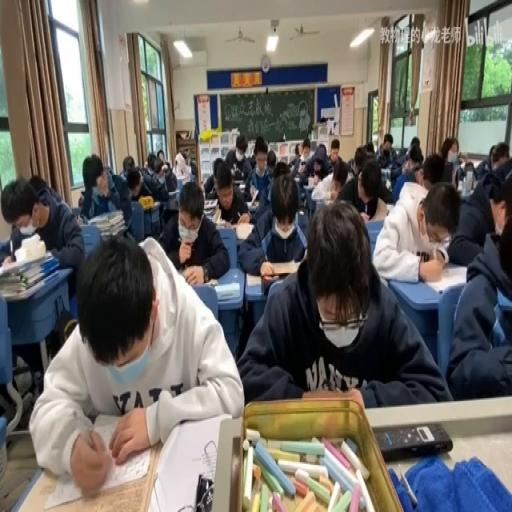calculator: (422, 262, 468, 293), (214, 282, 240, 300), (496, 284, 512, 310), (234, 222, 256, 240), (311, 194, 330, 208), (212, 205, 222, 222), (248, 185, 258, 202), (201, 277, 218, 286), (203, 199, 218, 209), (148, 199, 161, 209), (247, 199, 259, 209), (75, 213, 85, 225), (306, 176, 315, 188), (236, 180, 245, 190), (386, 205, 395, 215), (168, 189, 178, 196), (294, 176, 300, 181)
paper: (32, 230, 242, 490), (234, 198, 445, 408), (447, 184, 512, 401), (2, 174, 85, 292), (157, 179, 227, 283), (78, 152, 133, 238), (334, 156, 391, 220), (124, 163, 170, 232), (246, 138, 273, 205), (296, 142, 331, 184), (223, 132, 251, 182), (435, 136, 462, 186), (400, 145, 426, 191), (202, 154, 227, 198), (376, 131, 398, 171), (173, 148, 192, 181), (490, 142, 510, 171), (29, 175, 48, 199), (352, 145, 366, 175), (326, 138, 340, 168), (10, 223, 22, 256), (474, 156, 490, 180), (272, 159, 290, 178), (332, 160, 344, 180), (126, 179, 140, 196), (266, 149, 276, 171), (122, 154, 134, 172), (146, 152, 155, 172), (189, 159, 198, 178), (408, 135, 418, 151), (464, 161, 475, 175), (155, 150, 165, 164), (366, 141, 374, 155), (294, 144, 300, 156)
person: (373, 422, 453, 461), (194, 471, 214, 509), (261, 272, 283, 294)
